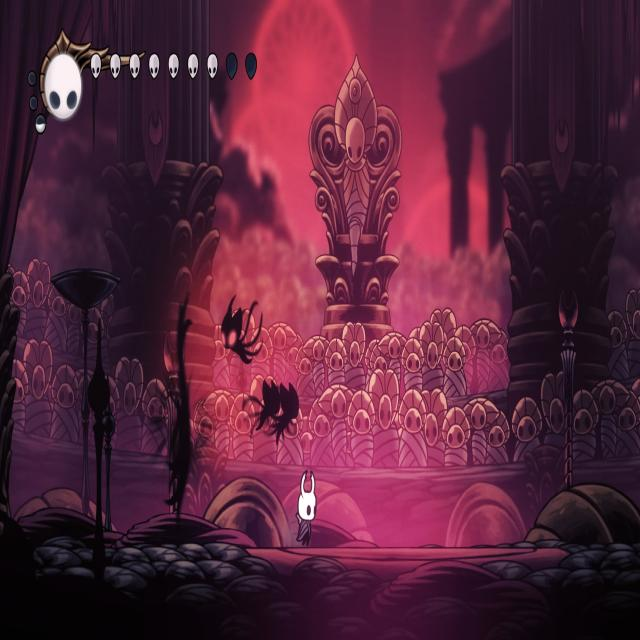Player: (294, 464, 320, 548)
Staggered_Grimm: (217, 292, 266, 370)
